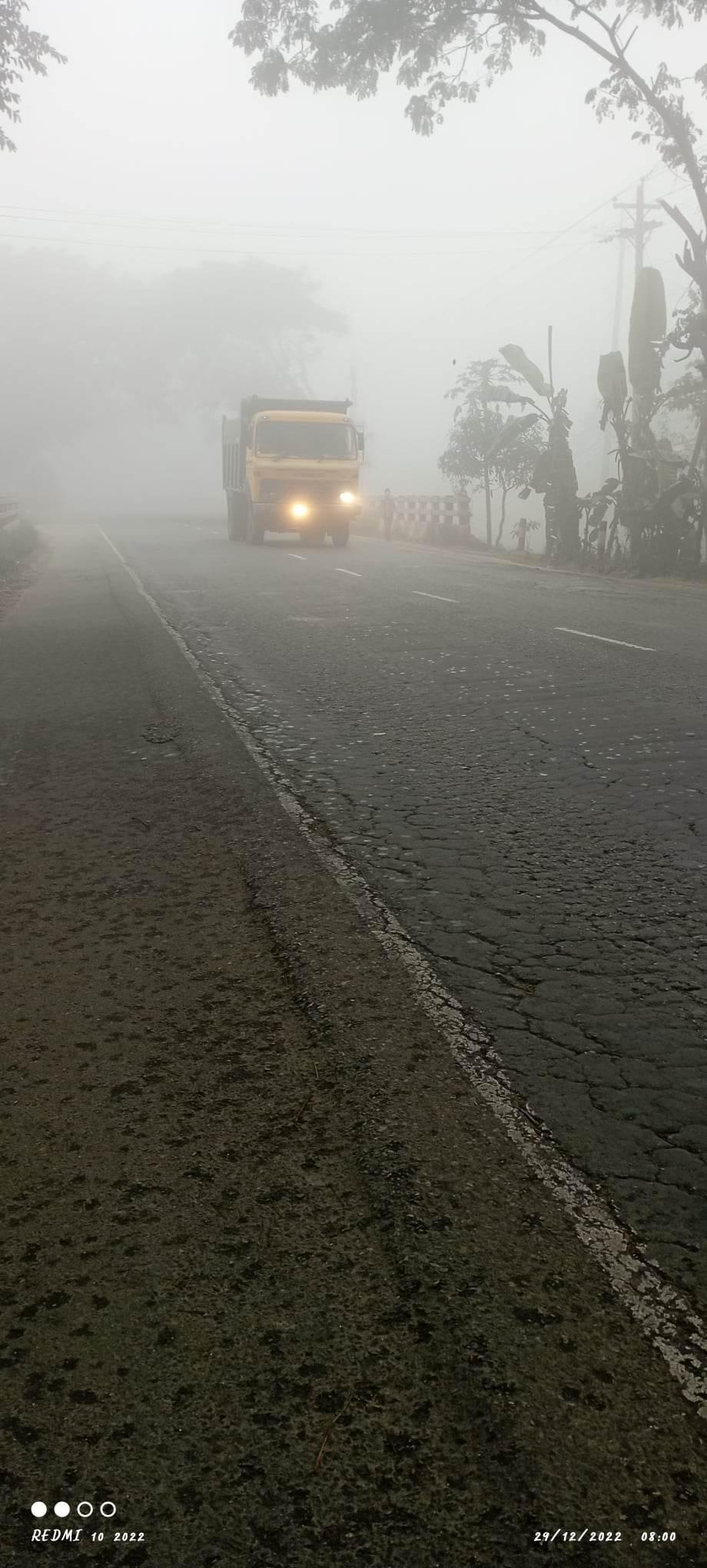Truck: (212, 362, 397, 587)
